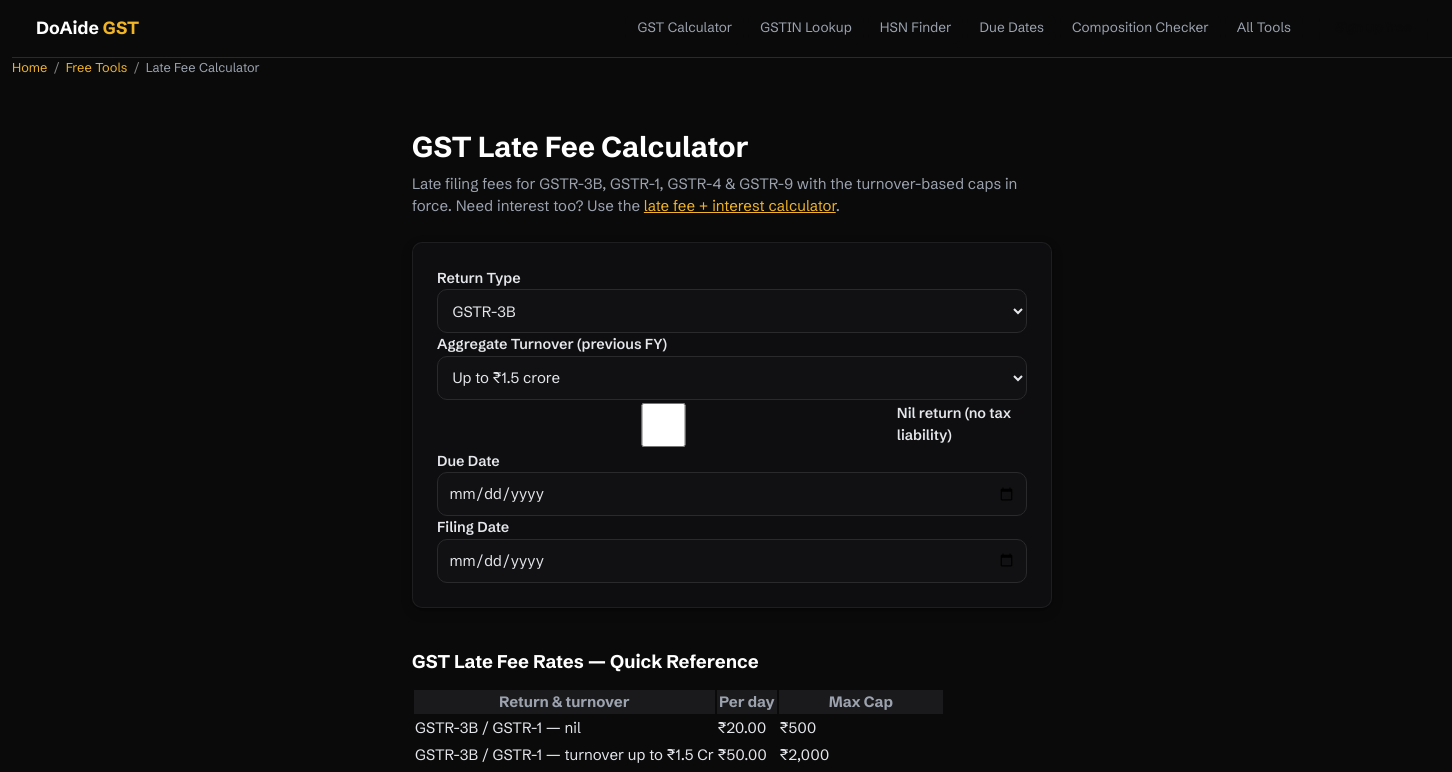
Test: LateFeeCalculatorPage › caps GSTR-3B late fee at ₹2,000 for turnover up to ₹1.5 crore
Type "2025-01-20" into the date field labelled "Due Date" at (732, 494), box [437, 472, 1027, 516]
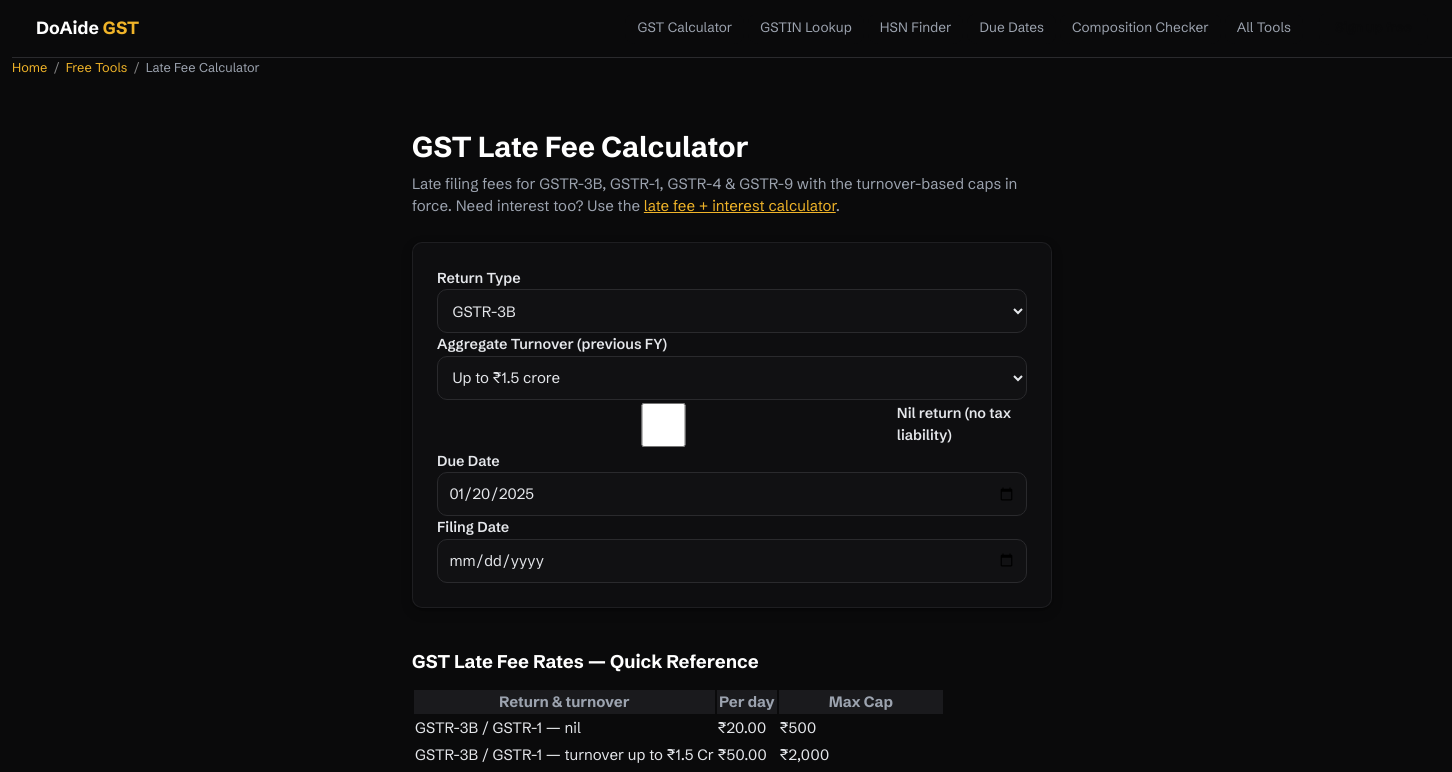
Type "2026-01-20" into the date field labelled "Filing Date" at (732, 561), box [437, 539, 1027, 583]
(page scrolled)
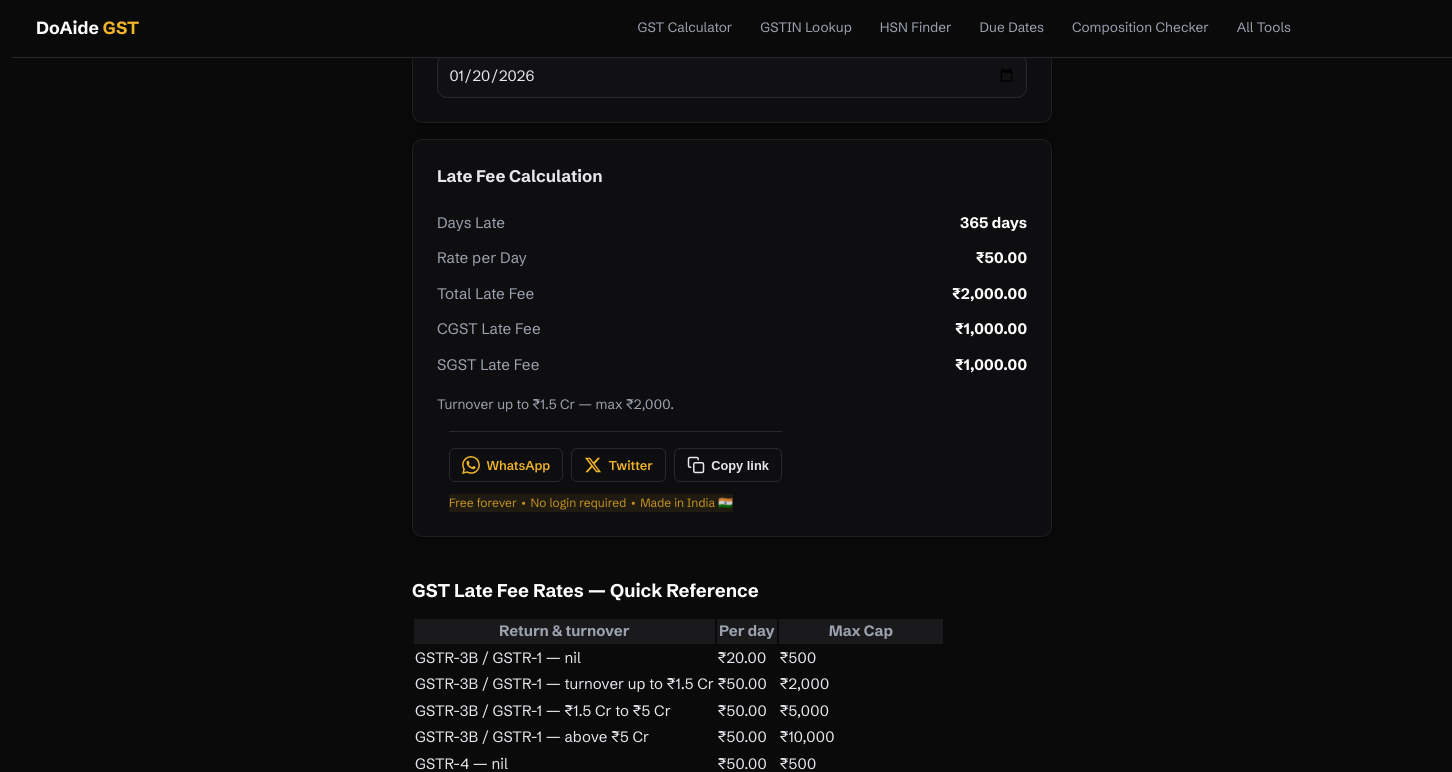
Expected: the heading "Late Fee Calculation" is shown, [437, 166, 602, 186]
Expected: the text "₹2,000.00" is shown, [952, 283, 1027, 306]
Expected: the text "Turnover up to ₹1.5 Cr — max ₹2,000." is shown, [437, 396, 674, 413]
